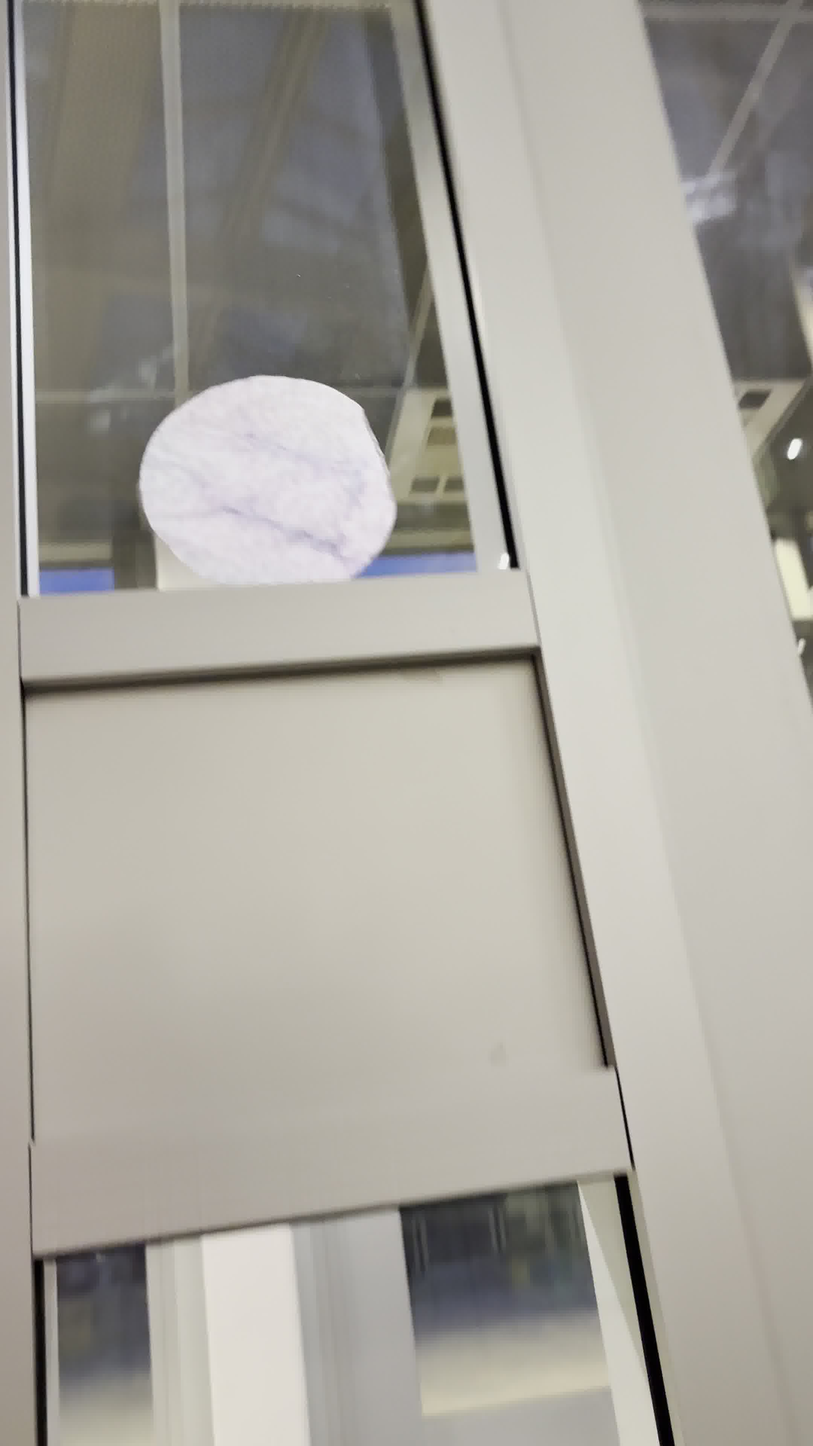Target: (136, 372, 403, 588)
